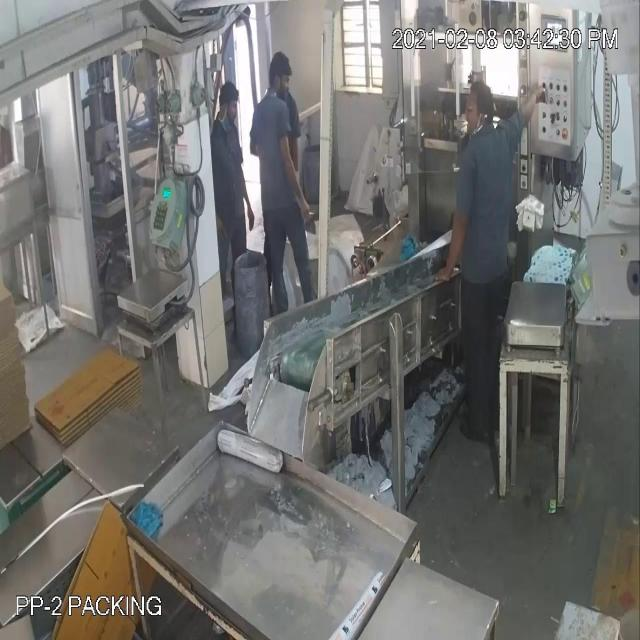No_Gloves: (38, 52, 528, 248)
